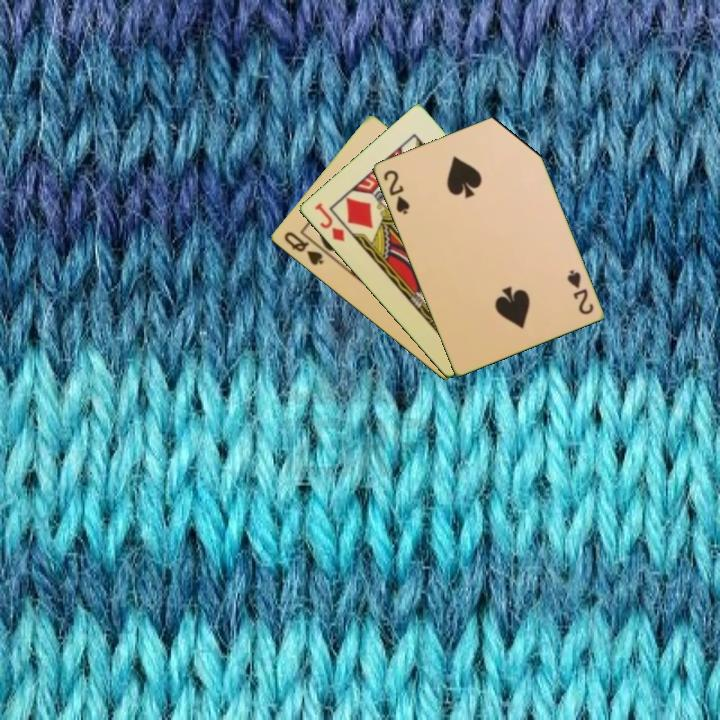2s: (563, 266, 596, 317), (380, 166, 412, 217)
Jd: (310, 199, 347, 245)
Qs: (280, 228, 326, 268)
